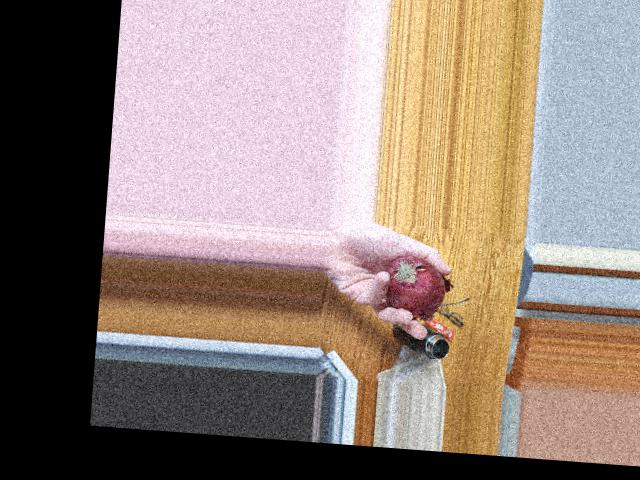onion: (381, 254, 445, 312)
